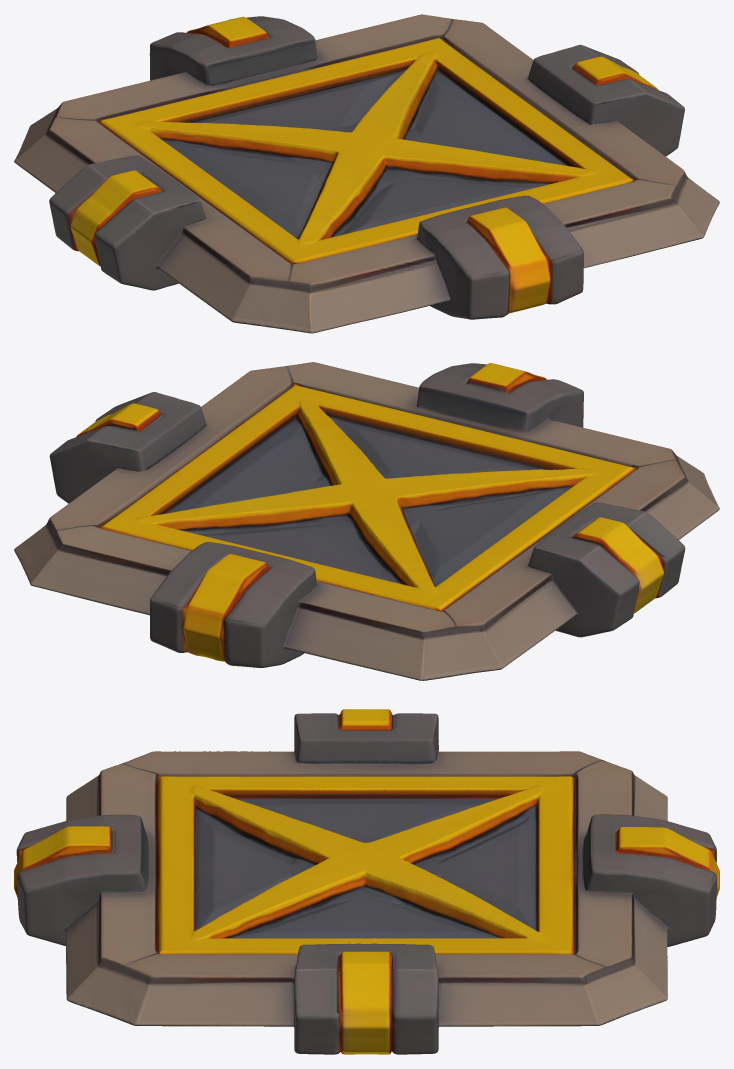
Rendered from tripo_convert_7c586f8b-a725-4d3b-96d1-87e86cf80088.fbx.
3 renders of one model, top to bottom at view 1: azimuth 30°, elevation 25°; view 2: azimuth 150°, elevation 25°; view 3: azimuth 270°, elevation 25°, orthographic. The views are drawn at different scales.
Visible parts, largest first — view 1: tripo_node_7c586f8b; view 2: tripo_node_7c586f8b; view 3: tripo_node_7c586f8b.
Part boxes in pixels (<box>): tripo_node_7c586f8b: <box>14,14,719,333</box>; tripo_node_7c586f8b: <box>14,362,719,680</box>; tripo_node_7c586f8b: <box>14,709,719,1054</box>.
Bounding box in the file's own units: 0.9976 × 0.1487 × 1.
Materials: 1 (1 with a texture image).
